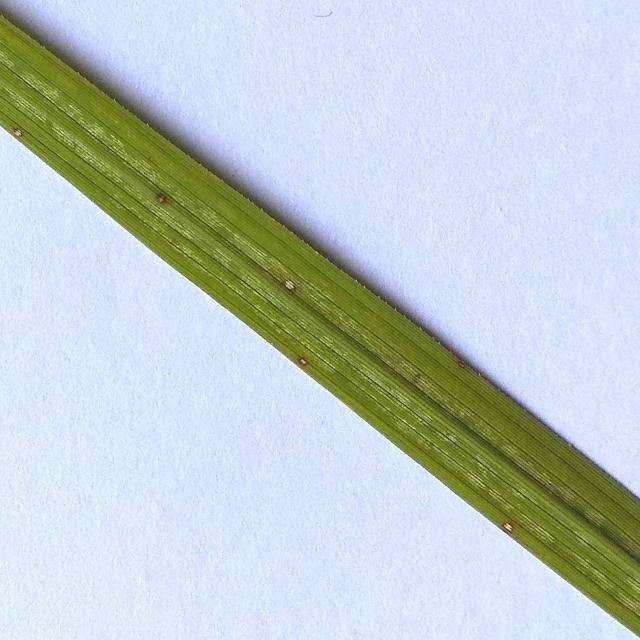Blast: (278, 271, 302, 296), (149, 187, 169, 208), (292, 350, 314, 368), (501, 520, 519, 534), (10, 126, 24, 139)
